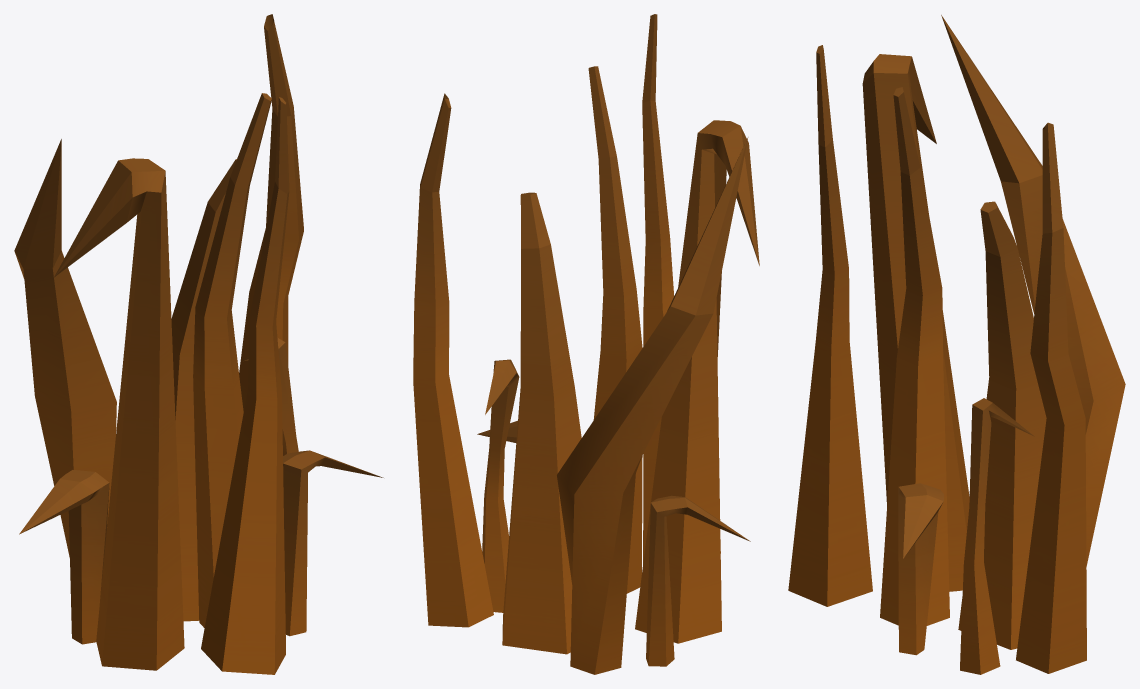
The model's file is hierba16.fbx.
The picture shows the model from 3 angles, left to right: view 1: azimuth 30°, elevation 25°; view 2: azimuth 150°, elevation 25°; view 3: azimuth 270°, elevation 25°; orthographic projection. The views are drawn at different scales.
Parts seen in each view (by area): view 1: hierba16; view 2: hierba16; view 3: hierba16.
Boxes of the visible parts, box(x1,y1,x2,y2) form: hierba16: box(14, 14, 383, 674); hierba16: box(413, 14, 759, 674); hierba16: box(788, 15, 1125, 674).
Bounding box in the file's own units: 171 × 293 × 154.
